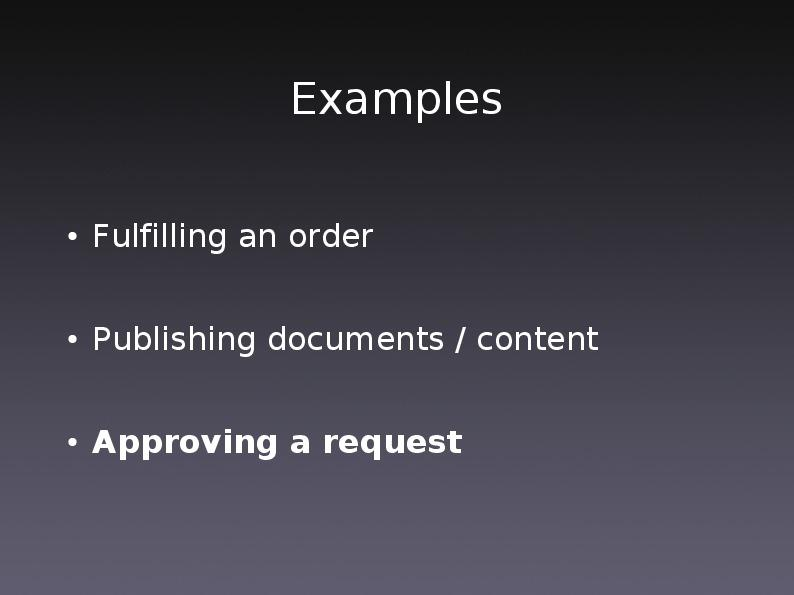subtitle: (90, 319, 605, 357), (88, 424, 477, 465), (91, 213, 379, 253)
title: (289, 74, 506, 127)
